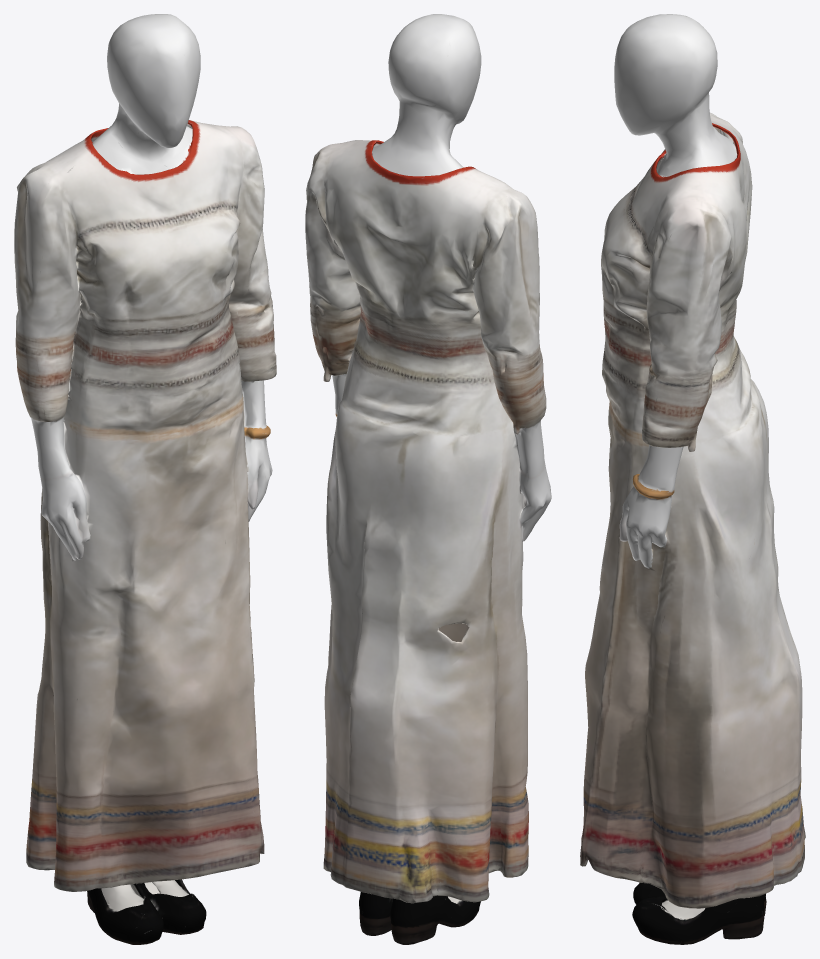
3 renders of one model, left to right at view 1: azimuth 30°, elevation 25°; view 2: azimuth 150°, elevation 25°; view 3: azimuth 270°, elevation 25°, orthographic. The views are drawn at different scales.
Size of the model in its own units: 0.2431 by 0.8982 by 0.2039.
1 material, 1 textured.
